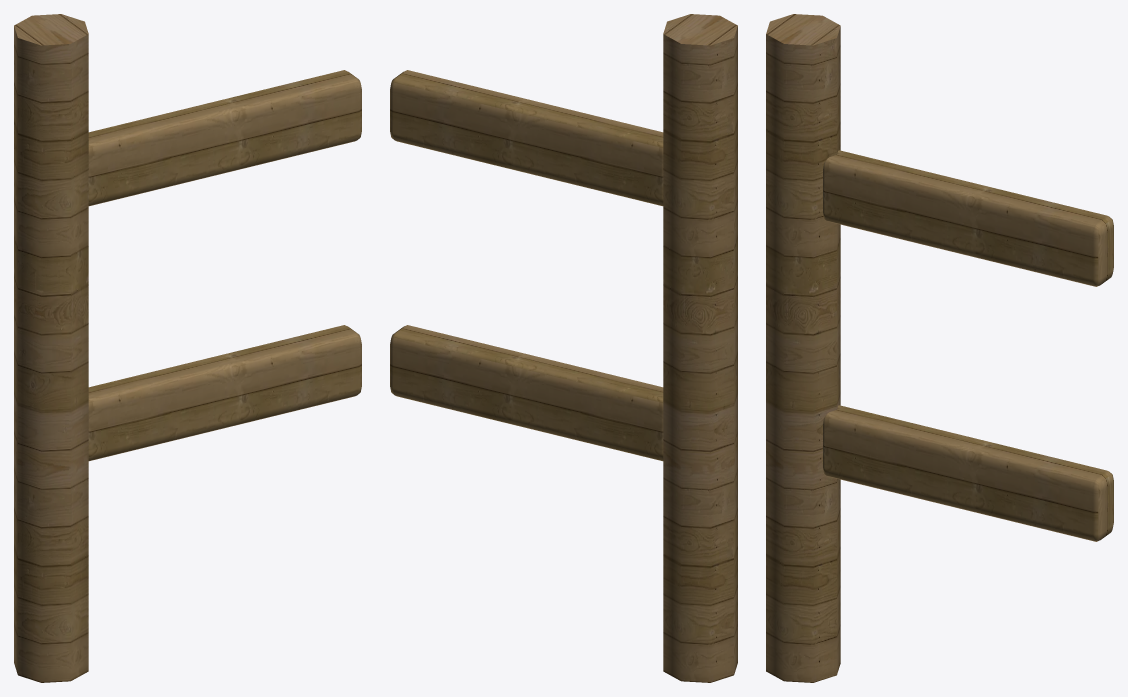
Rendered from rail_fence.glb.
The picture shows the model from 3 angles, left to right: view 1: azimuth 30°, elevation 25°; view 2: azimuth 150°, elevation 25°; view 3: azimuth 330°, elevation 25°; orthographic projection.
Visible parts, largest first — view 1: prop (×2); view 2: prop (×2); view 3: prop (×2).
Part boxes in pixels (x1,y1,x2,y2): prop (×2): [14, 14, 361, 682]; prop (×2): [390, 14, 737, 682]; prop (×2): [766, 14, 1113, 682].
Bounding box in the file's own units: 0.555 × 1 × 0.11.
Materials: 2 (2 with a texture image).
